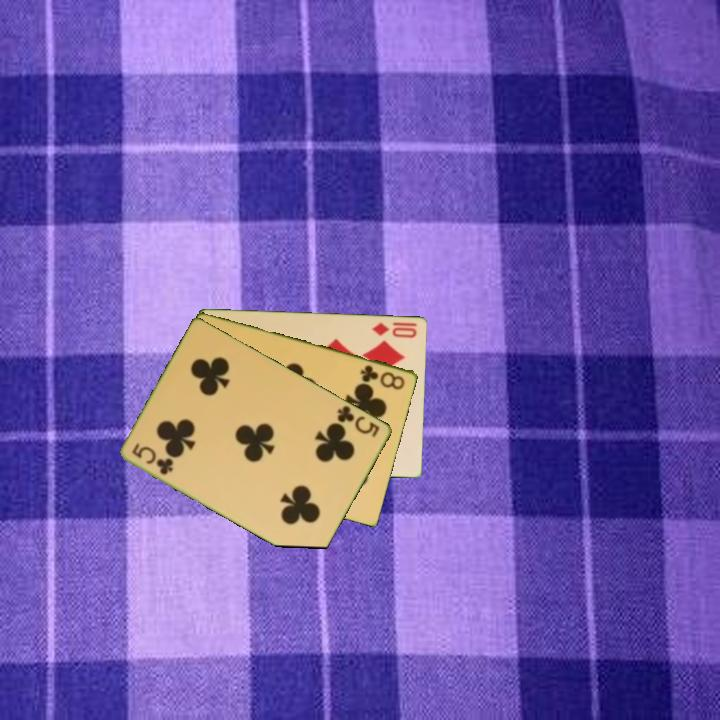10d: (369, 319, 419, 340)
5c: (129, 439, 177, 478), (334, 402, 383, 440)
8c: (357, 361, 408, 392)
